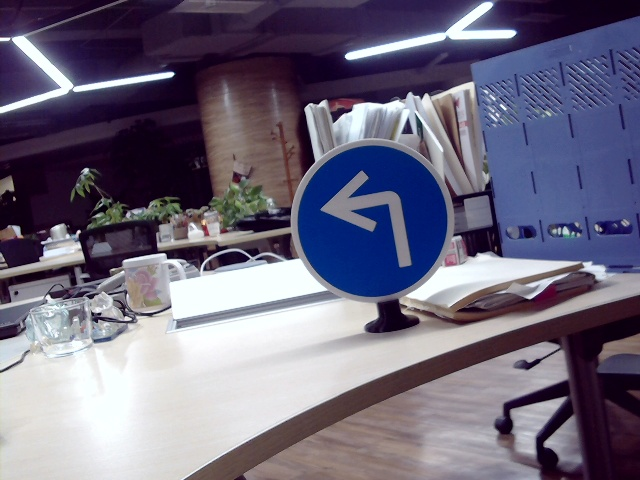turn_left: (325, 167, 417, 269)
